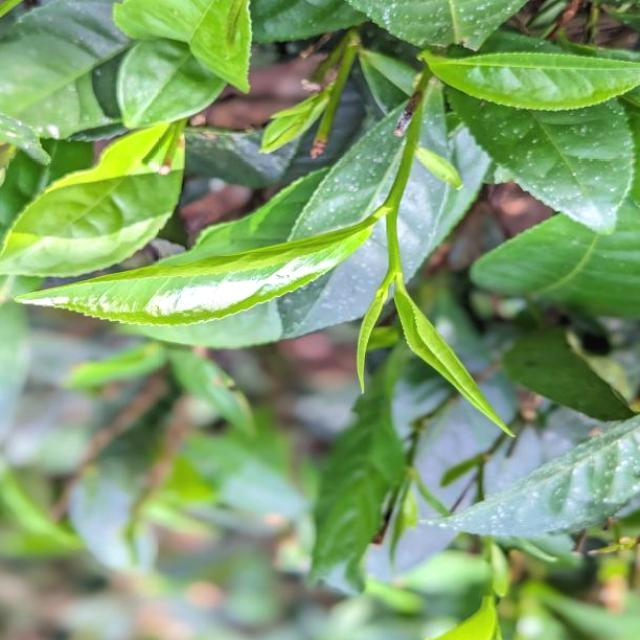Stem: (387, 203, 397, 221)
